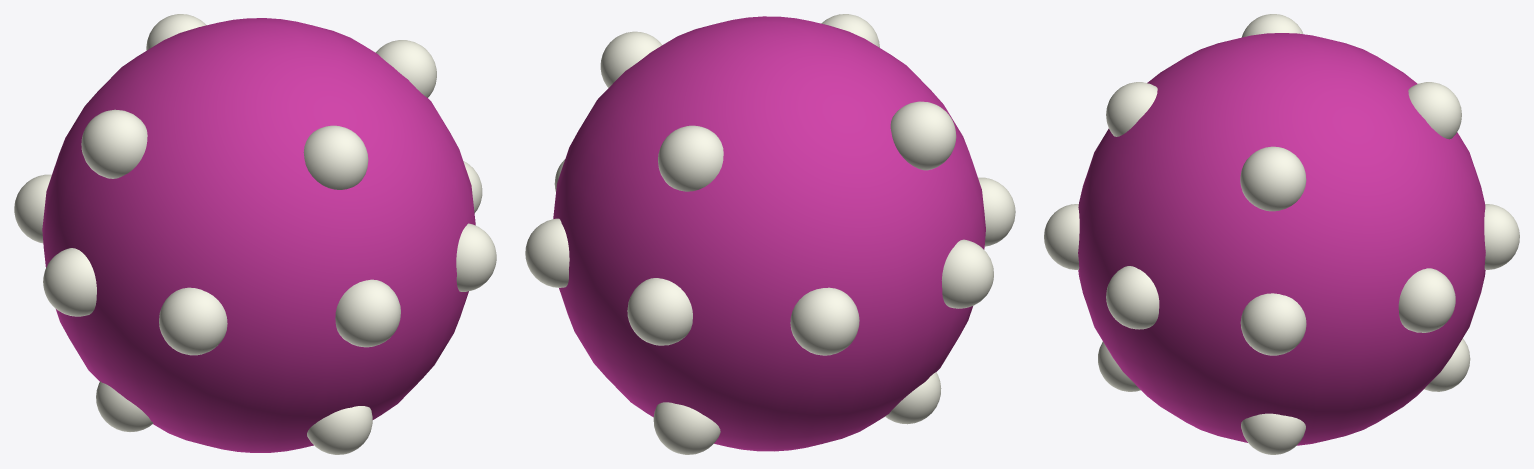
The model's file is Ball.fbx.
The picture shows the model from 3 angles, left to right: view 1: azimuth 30°, elevation 25°; view 2: azimuth 150°, elevation 25°; view 3: azimuth 270°, elevation 25°; orthographic projection. The views are drawn at different scales.
Parts seen in each view (by area): view 1: Ball; view 2: Ball; view 3: Ball.
Boxes of the visible parts, x1,y1,x2,y2 form: Ball: (14, 14, 496, 454); Ball: (525, 14, 1015, 454); Ball: (1044, 14, 1519, 454).
Bounding box in the file's own units: 11.4 × 10 × 11.5.
